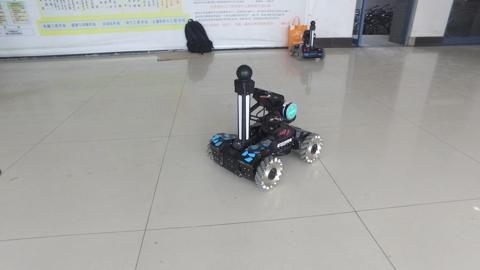bag: (182, 16, 216, 56), (285, 13, 310, 49)
chariot: (205, 63, 323, 192), (289, 19, 326, 61)
